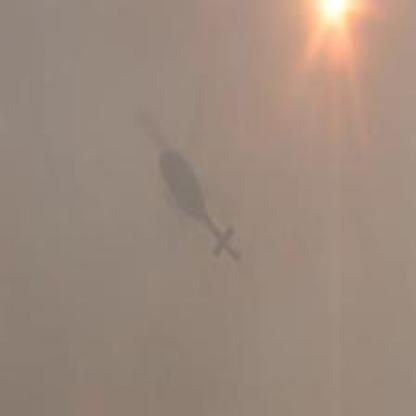other: (282, 0, 380, 109)
